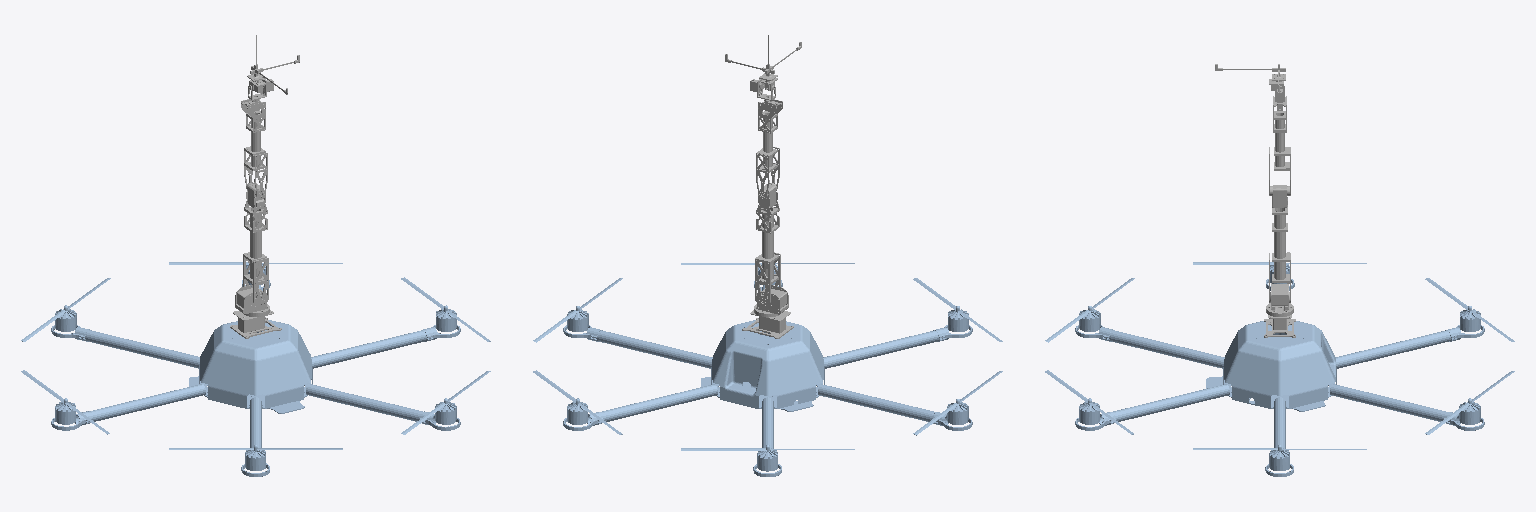
URDF robot description (uam_urdf):
<?xml version="1.0" encoding="utf-8"?>
<!-- This URDF was automatically created by SolidWorks to URDF Exporter! Originally created by [author] ([email redacted]) 
     Commit Version: 1.5.0-0-g9aa0fdb  Build Version: 1.5.7004.21443
     For more information, please see http://wiki.ros.org/sw_urdf_exporter -->
<robot
  name="uam_urdf">
 <link
    name="uav_link">
    <inertial>
      <origin
        xyz="0.0 0.0 0.0"
        rpy="0 0 0" />
      <mass
        value="0.354035" />
      <inertia
        ixx="0.89997"
        ixy="-3.6726E-03"
        ixz="-0.0023018"
        iyy="0.89997"
        iyz="-3.1189E-03"
        izz="0.25882" />
    </inertial>
    <visual>
      <origin
        xyz="0 0 0"
        rpy="0 0 0" />
      <geometry>
        <mesh
          filename="package://robot_urdf/meshes/uav800_small.STL" />
      </geometry>
      <material
        name="">
        <color
          rgba="0.7 0.8 0.9 1" />
      </material>
    </visual>
    <collision>
      <origin
        xyz="0 0 0"
        rpy="0 0 0" />
      <geometry>
        <mesh
          filename="package://robot_urdf/meshes/uav800_small.STL" />
      </geometry>
    </collision>
  </link>

  <joint    name="fixed_joint_uav"    type="fixed">
    <parent      link="uav_link" />
    <child      link="base_link" />
    <origin      xyz="0 0 0.07"      rpy="0 0 0" />
  </joint>

  <link
    name="base_link">
    <inertial>
      <origin
        xyz="0.021276 0.00044685 0.17626"
        rpy="0 0 0" />
      <mass
        value="0.54035" />
      <inertia
        ixx="0.0089997"
        ixy="-3.6726E-05"
        ixz="-0.0023018"
        iyy="0.011405"
        iyz="-3.1189E-05"
        izz="0.0025882" />
    </inertial>
    <visual>
      <origin
        xyz="0 0 0"
        rpy="0 0 0" />
      <geometry>
        <mesh
          filename="package://robot_urdf/meshes/base_link.STL" />
      </geometry>
      <material
        name="">
        <color
          rgba="0.75294 0.75294 0.75294 1" />
      </material>
    </visual>
    <collision>
      <origin
        xyz="0 0 0"
        rpy="0 0 0" />
      <geometry>
        <mesh
          filename="package://robot_urdf/meshes/base_link.STL" />
      </geometry>
    </collision>
  </link>
  <link
    name="link1">
    <inertial>
      <origin
        xyz="0.021276 0.00044685 0.13516"
        rpy="0 0 0" />
      <mass
        value="0.54035" />
      <inertia
        ixx="0.0089997"
        ixy="-3.6726E-05"
        ixz="-0.0023018"
        iyy="0.011405"
        iyz="-3.1189E-05"
        izz="0.0025882" />
    </inertial>
    <visual>
      <origin
        xyz="0 0 0"
        rpy="0 0 0" />
      <geometry>
        <mesh
          filename="package://robot_urdf/meshes/link1.STL" />
      </geometry>
      <material
        name="">
        <color
          rgba="0.75294 0.75294 0.75294 1" />
      </material>
    </visual>
    <collision>
      <origin
        xyz="0 0 0"
        rpy="0 0 0" />
      <geometry>
        <mesh
          filename="package://robot_urdf/meshes/link1.STL" />
      </geometry>
    </collision>
  </link>
  <joint
    name="revolute_joint_0"
    type="revolute">
    <origin
      xyz="0 0 0.0411"
      rpy="0 0 0" />
    <parent
      link="base_link" />
    <child
      link="link1" />
    <axis
      xyz="0 0 1" />
    <limit
      lower="-3.1416"
      upper="3.1416"
      effort="0"
      velocity="0" />
    <safety_controller
      k_velocity="0" />
  </joint>
  <link
    name="link2">
    <inertial>
      <origin
        xyz="0.10206 0.021276 0.00044685"
        rpy="0 0 0" />
      <mass
        value="0.54035" />
      <inertia
        ixx="0.0025883"
        ixy="-0.0023019"
        ixz="-3.1189E-05"
        iyy="0.0089996"
        iyz="-3.6727E-05"
        izz="0.011405" />
    </inertial>
    <visual>
      <origin
        xyz="0 0 0"
        rpy="0 0 0" />
      <geometry>
        <mesh
          filename="package://robot_urdf/meshes/link2.STL" />
      </geometry>
      <material
        name="">
        <color
          rgba="0.75294 0.75294 0.75294 1" />
      </material>
    </visual>
    <collision>
      <origin
        xyz="0 0 0"
        rpy="0 0 0" />
      <geometry>
        <mesh
          filename="package://robot_urdf/meshes/link2.STL" />
      </geometry>
    </collision>
  </link>
  <joint
    name="revolute_joint_1"
    type="revolute">
    <origin
      xyz="0 0 0.0331"
      rpy="0 -1.5708 -1.5708" />
    <parent
      link="link1" />
    <child
      link="link2" />
    <axis
      xyz="0 0 1" />
    <limit
      lower="-1.5708"
      upper="1.5708"
      effort="0"
      velocity="0" />

  </joint>
  <link
    name="link3">
    <inertial>
      <origin
        xyz="-0.147937241564067 0.0212764751606143 0.000446849686881917"
        rpy="0 0 0" />
      <mass
        value="0.54035344098223" />
      <inertia
        ixx="0.00258825458019123"
        ixy="-0.00230185859642895"
        ixz="-3.11885241174241E-05"
        iyy="0.00899964513781678"
        iyz="-3.67265355845029E-05"
        izz="0.0114048117898332" />
    </inertial>
    <visual>
      <origin
        xyz="0 0 0"
        rpy="0 0 0" />
      <geometry>
        <mesh
          filename="package://robot_urdf/meshes/link3.STL" />
      </geometry>
      <material
        name="">
        <color
          rgba="0.752941176470588 0.752941176470588 0.752941176470588 1" />
      </material>
    </visual>
    <collision>
      <origin
        xyz="0 0 0"
        rpy="0 0 0" />
      <geometry>
        <mesh
          filename="package://robot_urdf/meshes/link3.STL" />
      </geometry>
    </collision>
  </link>
  <joint
    name="revolute_joint_2"
    type="revolute">
    <origin
      xyz="0.25 0 0"
      rpy="0 0 -1.5708" />
    <parent
      link="link2" />
    <child
      link="link3" />
    <axis
      xyz="0 0 1" />
    <limit
      lower="-2.618"
      upper="2.618"
      effort="0"
      velocity="0" />
  </joint>
  <link
    name="link4">
    <inertial>
      <origin
        xyz="0.000446848980863048 -0.14793724156409 -0.198123524656126"
        rpy="0 0 0" />
      <mass
        value="0.54035344098223" />
      <inertia
        ixx="0.0114048117898332"
        ixy="-3.11885241173949E-05"
        ixz="-3.6726535584489E-05"
        iyy="0.0025882545801912"
        iyz="-0.00230185859642891"
        izz="0.00899964513781681" />
    </inertial>
    <visual>
      <origin
        xyz="0 0 0"
        rpy="0 0 0" />
      <geometry>
        <mesh
          filename="package://robot_urdf/meshes/link4.STL" />
      </geometry>
      <material
        name="">
        <color
          rgba="0.752941176470588 0.752941176470588 0.752941176470588 1" />
      </material>
    </visual>
    <collision>
      <origin
        xyz="0 0 0"
        rpy="0 0 0" />
      <geometry>
        <mesh
          filename="package://robot_urdf/meshes/link4.STL" />
      </geometry>
    </collision>
  </link>
  <joint
    name="revolute_joint_3"
    type="revolute">
    <origin
      xyz="0 0.2194 0"
      rpy="0 -1.5708 -1.5708" />
    <parent
      link="link3" />
    <child
      link="link4" />
    <axis
      xyz="0 0 1" />
    <limit
      lower="-3.1416"
      upper="3.1416"
      effort="0"
      velocity="0" />
  </joint>
  <link
    name="link5">
    <inertial>
      <origin
        xyz="-0.224639891158 0.000440482500214565 -0.147937771624016"
        rpy="0 0 0" />
      <mass
        value="0.54035344098223" />
      <inertia
        ixx="0.0089996451378173"
        ixy="-3.67265355845038E-05"
        ixz="-0.00230185859642822"
        iyy="0.0114048117898332"
        iyz="-3.11885241174529E-05"
        izz="0.00258825458019071" />
    </inertial>
    <visual>
      <origin
        xyz="0 0 0"
        rpy="0 0 0" />
      <geometry>
        <mesh
          filename="package://robot_urdf/meshes/link5.STL" />
      </geometry>
      <material
        name="">
        <color
          rgba="0.752941176470588 0.752941176470588 0.752941176470588 1" />
      </material>
    </visual>
    <collision>
      <origin
        xyz="0 0 0"
        rpy="0 0 0" />
      <geometry>
        <mesh
          filename="package://robot_urdf/meshes/link5.STL" />
      </geometry>
    </collision>
  </link>
  <joint
    name="revolute_joint_4"
    type="revolute">
    <origin
      xyz="0 0 0.026516"
      rpy="0 -1.5708 1.5708" />
    <parent
      link="link4" />
    <child
      link="link5" />
    <axis
      xyz="0 0 1" />
    <limit
      lower="-1.5708"
      upper="1.5708"
      effort="0"
      velocity="0" />
  </joint>
  <link
    name="link6">
    <inertial>
      <origin
        xyz="-0.00132271156773267 -0.147937771635159 -0.245489891158021"
        rpy="0 0 0" />
      <mass
        value="0.54035344098223" />
      <inertia
        ixx="0.0114048117898332"
        ixy="-3.11885241174277E-05"
        ixz="-3.6726535584495E-05"
        iyy="0.00258825458019069"
        iyz="-0.0023018585964282"
        izz="0.00899964513781732" />
    </inertial>
    <visual>
      <origin
        xyz="0 0 0"
        rpy="0 0 0" />
      <geometry>
        <mesh
          filename="package://robot_urdf/meshes/end_link.STL" />
      </geometry>
      <material
        name="">
        <color
          rgba="0.752941176470588 0.752941176470588 0.752941176470588 1" />
      </material>
    </visual>
    <collision>
      <origin
        xyz="0 0 0"
        rpy="0 0 0" />
      <geometry>
        <mesh
          filename="package://robot_urdf/meshes/end_link.STL" />
      </geometry>
    </collision>
  </link>
  <joint
    name="revolute_joint_5"
    type="revolute">
    <origin
      xyz="0.02085 0.0017632 0"
      rpy="1.5708 0 1.5708" />
    <parent
      link="link5" />
    <child
      link="link6" />
    <axis
      xyz="0 0 1" />
    <limit
      lower="-2.3562"
      upper="2.3562"
      effort="0"
      velocity="0" />
  </joint>

  <joint    name="fixed_joint_0"    type="fixed">
    <parent      link="link6" />
    <child      link="end_link" />
    <origin      xyz="0 0 0.07"      rpy="0 0 0" />
  </joint>

  <link
    name="end_link">
  </link>
</robot>

--- Render facts (derived) ---
3 views of the same robot in one strip: view 1: azimuth 30°, elevation 25°; view 2: azimuth 150°, elevation 25°; view 3: azimuth 270°, elevation 25° (orthographic).
Robot: uam_urdf — 9 links, 8 joints (6 revolute, 2 fixed); root link uav_link; default pose: every joint at zero.
Visible links, largest first — view 1: uav_link, link2, link3, base_link, link1; view 2: uav_link, link2, link3, base_link, link1; view 3: uav_link, link2, link3, link1, base_link.
Link boxes in pixels (x1=…): uav_link: x1=21, y1=262, x2=490, y2=476; link2: x1=243, y1=183, x2=268, y2=306; link3: x1=241, y1=99, x2=267, y2=198; base_link: x1=230, y1=310, x2=281, y2=338; link1: x1=235, y1=285, x2=269, y2=316; uav_link: x1=533, y1=263, x2=1002, y2=476; link2: x1=755, y1=184, x2=780, y2=306; link3: x1=756, y1=97, x2=782, y2=199; base_link: x1=742, y1=310, x2=793, y2=338; link1: x1=754, y1=285, x2=788, y2=317; uav_link: x1=1045, y1=262, x2=1514, y2=476; link2: x1=1269, y1=185, x2=1290, y2=302; link3: x1=1269, y1=96, x2=1290, y2=195; link1: x1=1266, y1=283, x2=1293, y2=316; base_link: x1=1264, y1=303, x2=1295, y2=337.
Size in the robot's own frame: 0.9962 by 1 by 0.822 metres.
Meshes: 8 distinct files referenced, 8 mesh visuals loaded (8 binary STL).